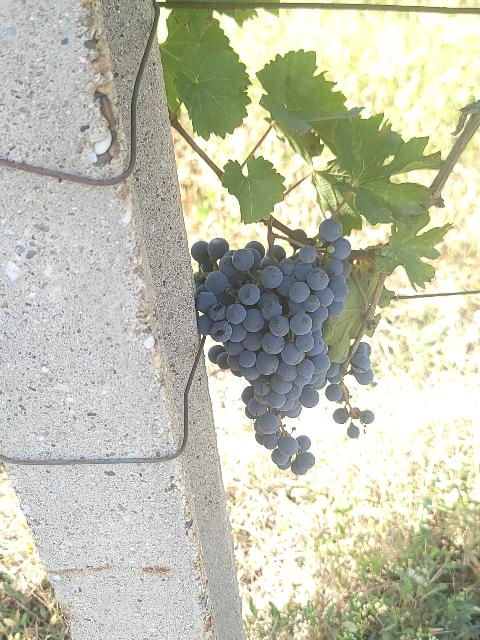grapes: (191, 219, 350, 475)
